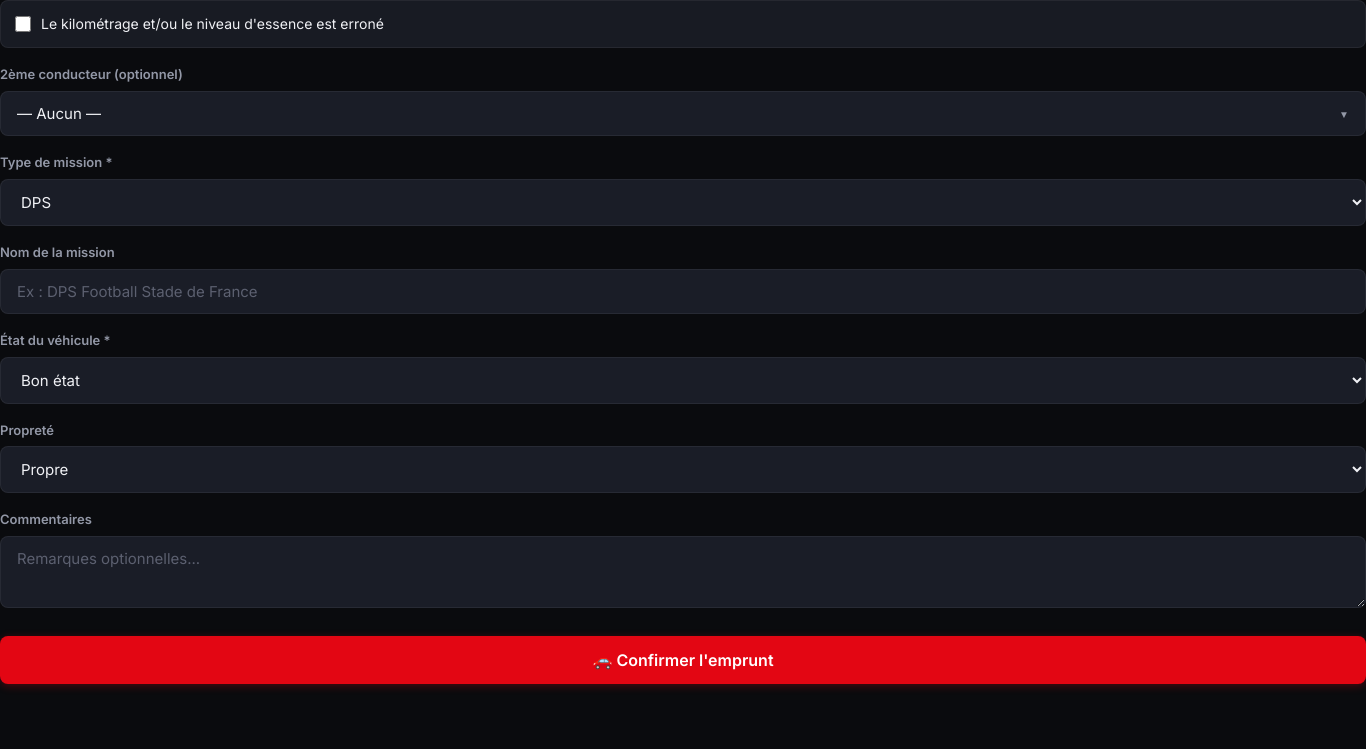
CheckOutForm (QR) — correction kilométrage / carburant › pré-remplit les champs avec les valeurs du véhicule une fois la case cochée
The image size is (1366, 749).
Click the checkbox labelled "Le kilométrage et/ou le niveau d'essence est erroné".
click(23, 24)  # box [15, 16, 31, 32]
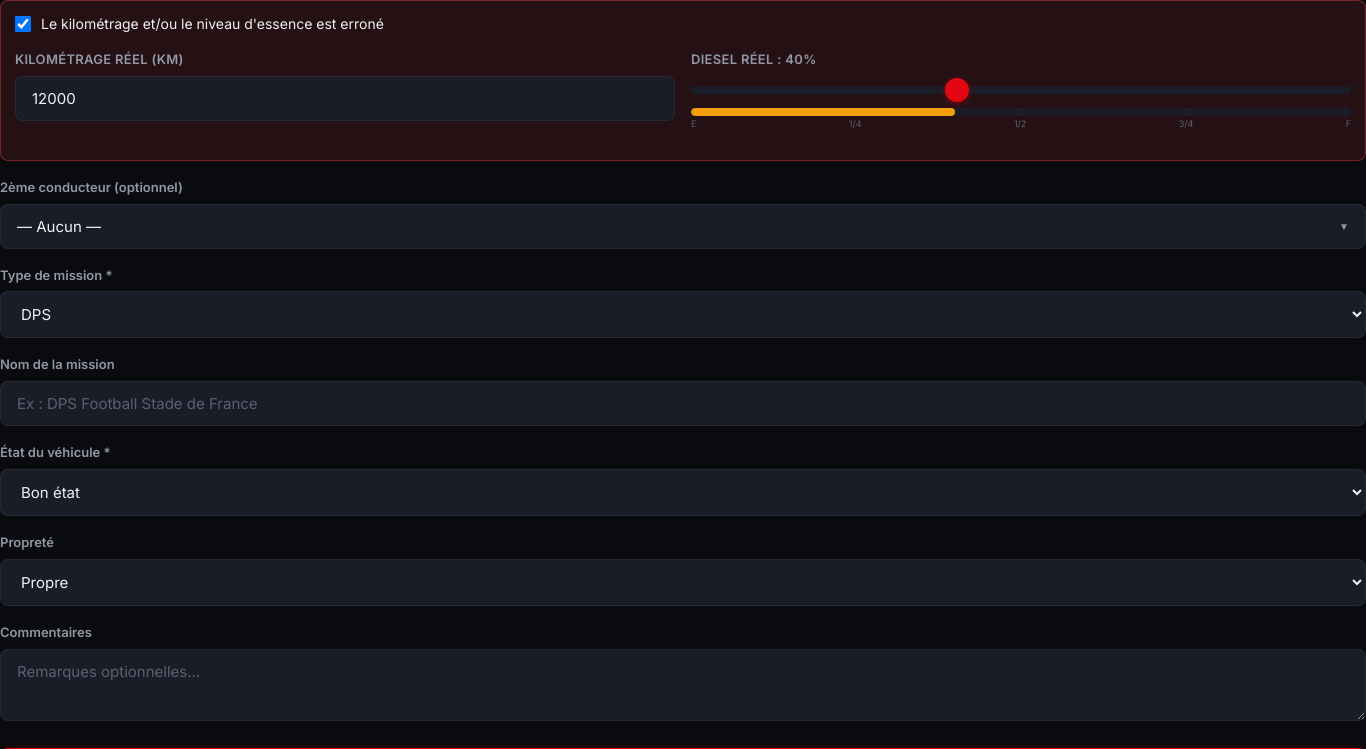
Expected: the number field labelled "Kilométrage réel (km)" holds "12000", [15, 76, 675, 121]
Expected: the slider labelled "Diesel réel : 40%" holds "40", [691, 86, 1351, 94]
